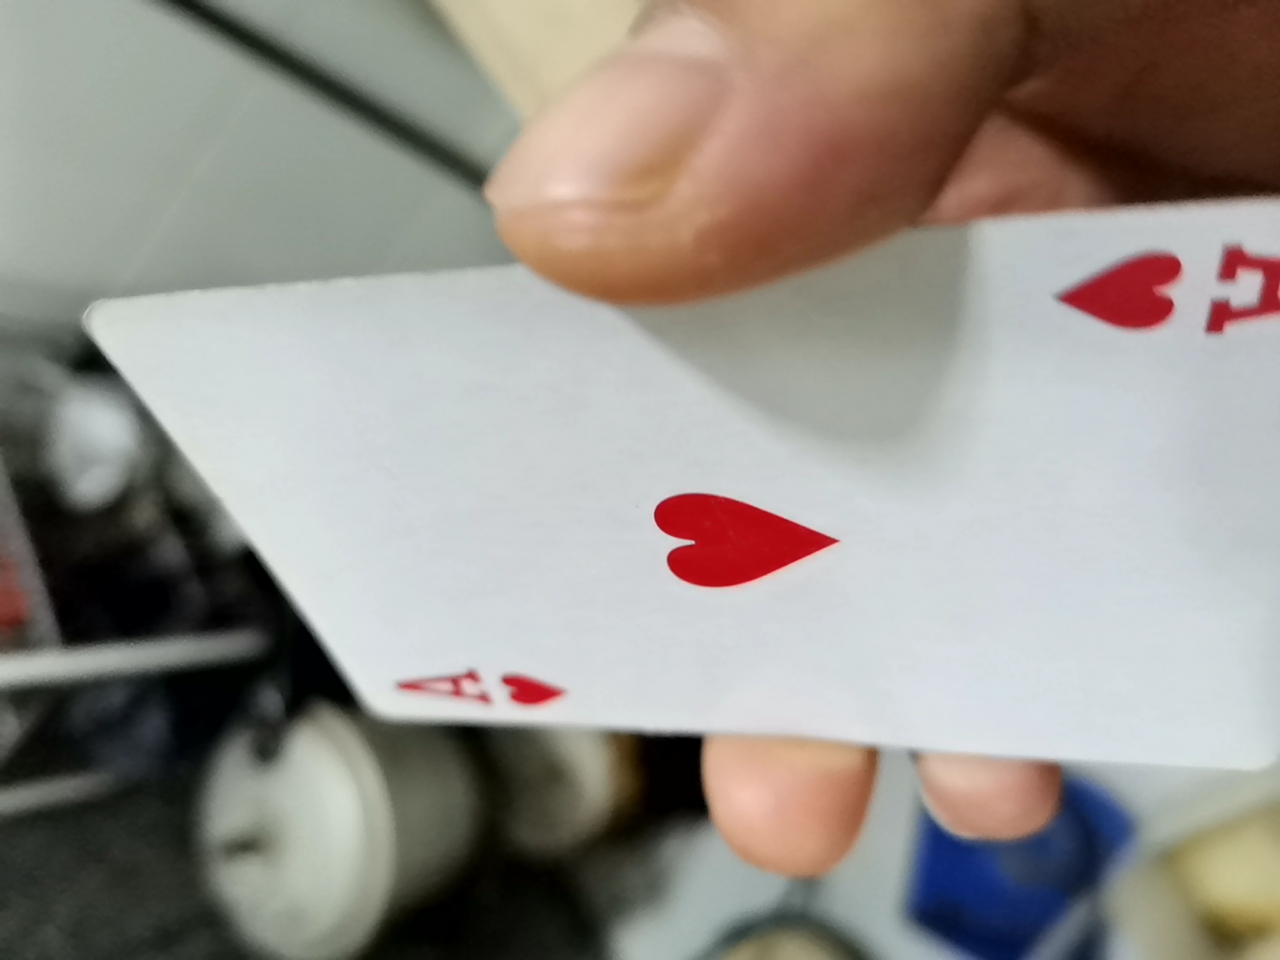hx a: (81, 293, 1254, 758)
